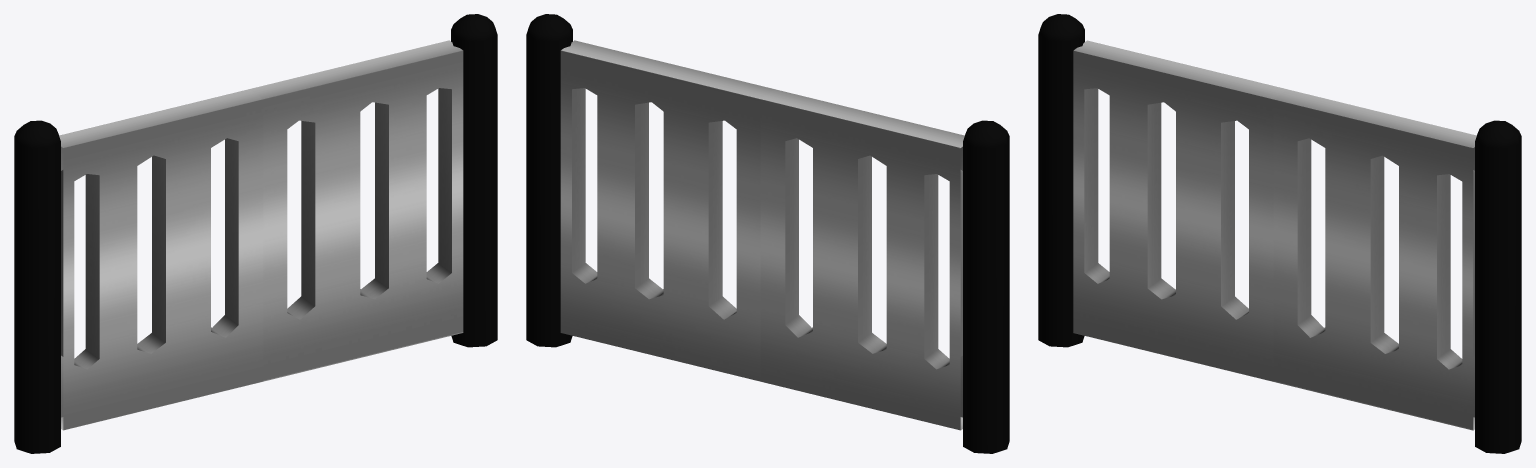
Rendered from gate_bigger_idle.fbx.
3 renders of one model, left to right at view 1: azimuth 30°, elevation 25°; view 2: azimuth 150°, elevation 25°; view 3: azimuth 330°, elevation 25°, orthographic.
Parts seen in each view (by area): view 1: pCube2, pCube1; view 2: pCube2, pCube1; view 3: pCube1, pCube2.
Part boxes in pixels (x1,y1,x2,y2): pCube2: [14, 89, 263, 453]; pCube1: [249, 14, 497, 381]; pCube2: [760, 89, 1009, 453]; pCube1: [526, 14, 774, 381]; pCube1: [1273, 89, 1521, 453]; pCube2: [1038, 14, 1286, 381].
Size of the model in its own units: 140 by 89.92 by 12.15.
Materials: 1 (1 with a texture image).
